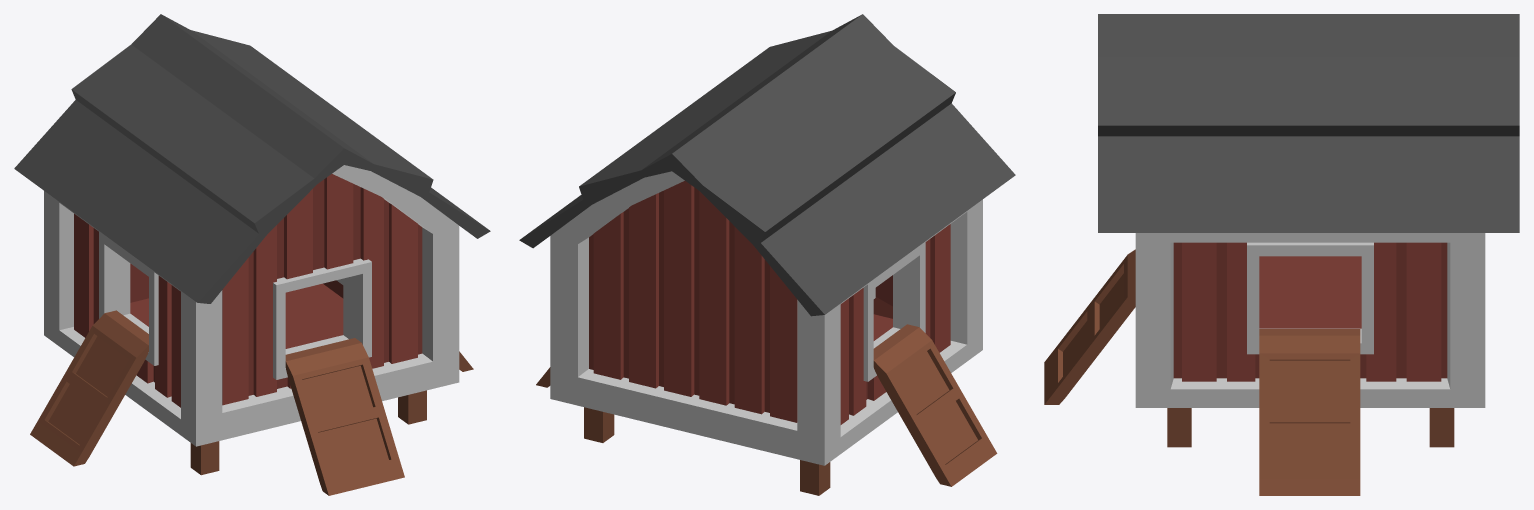
Rendered from ChickenCoop.gltf.
3 views of the same model, side by side, from view 1: azimuth 30°, elevation 25°; view 2: azimuth 150°, elevation 25°; view 3: azimuth 270°, elevation 25° (orthographic). The views are drawn at different scales.
Parts seen in each view (by area): view 1: ChickenCoop_Cube.015; view 2: ChickenCoop_Cube.015; view 3: ChickenCoop_Cube.015.
Part boxes in pixels (x1,y1,x2,y2): ChickenCoop_Cube.015: [14, 14, 490, 495]; ChickenCoop_Cube.015: [519, 14, 1015, 495]; ChickenCoop_Cube.015: [1044, 14, 1519, 495].
Size of the model in its own units: 2.41 by 1.85 by 2.15.
